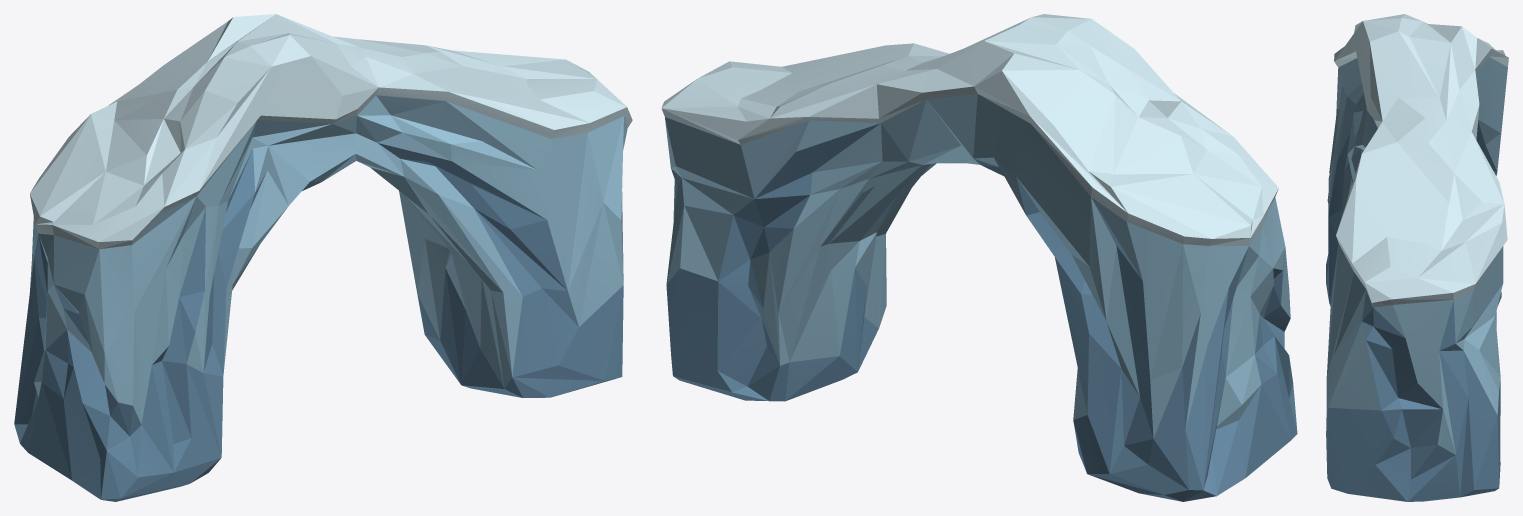
File: Iceberg_02.glb
The picture shows the model from 3 angles, left to right: view 1: azimuth 30°, elevation 25°; view 2: azimuth 150°, elevation 25°; view 3: azimuth 270°, elevation 25°; orthographic projection. The views are drawn at different scales.
Visible parts, largest first — view 1: SM_Env_Glacier_Arch_01; view 2: SM_Env_Glacier_Arch_01; view 3: SM_Env_Glacier_Arch_01.
Part boxes in pixels (x1=…): SM_Env_Glacier_Arch_01: x1=14, y1=14, x2=632, y2=501; SM_Env_Glacier_Arch_01: x1=661, y1=14, x2=1297, y2=501; SM_Env_Glacier_Arch_01: x1=1326, y1=14, x2=1508, y2=501.
Bounding box in the file's own units: 27.98 × 18.8 × 9.
1 material, 1 textured.
